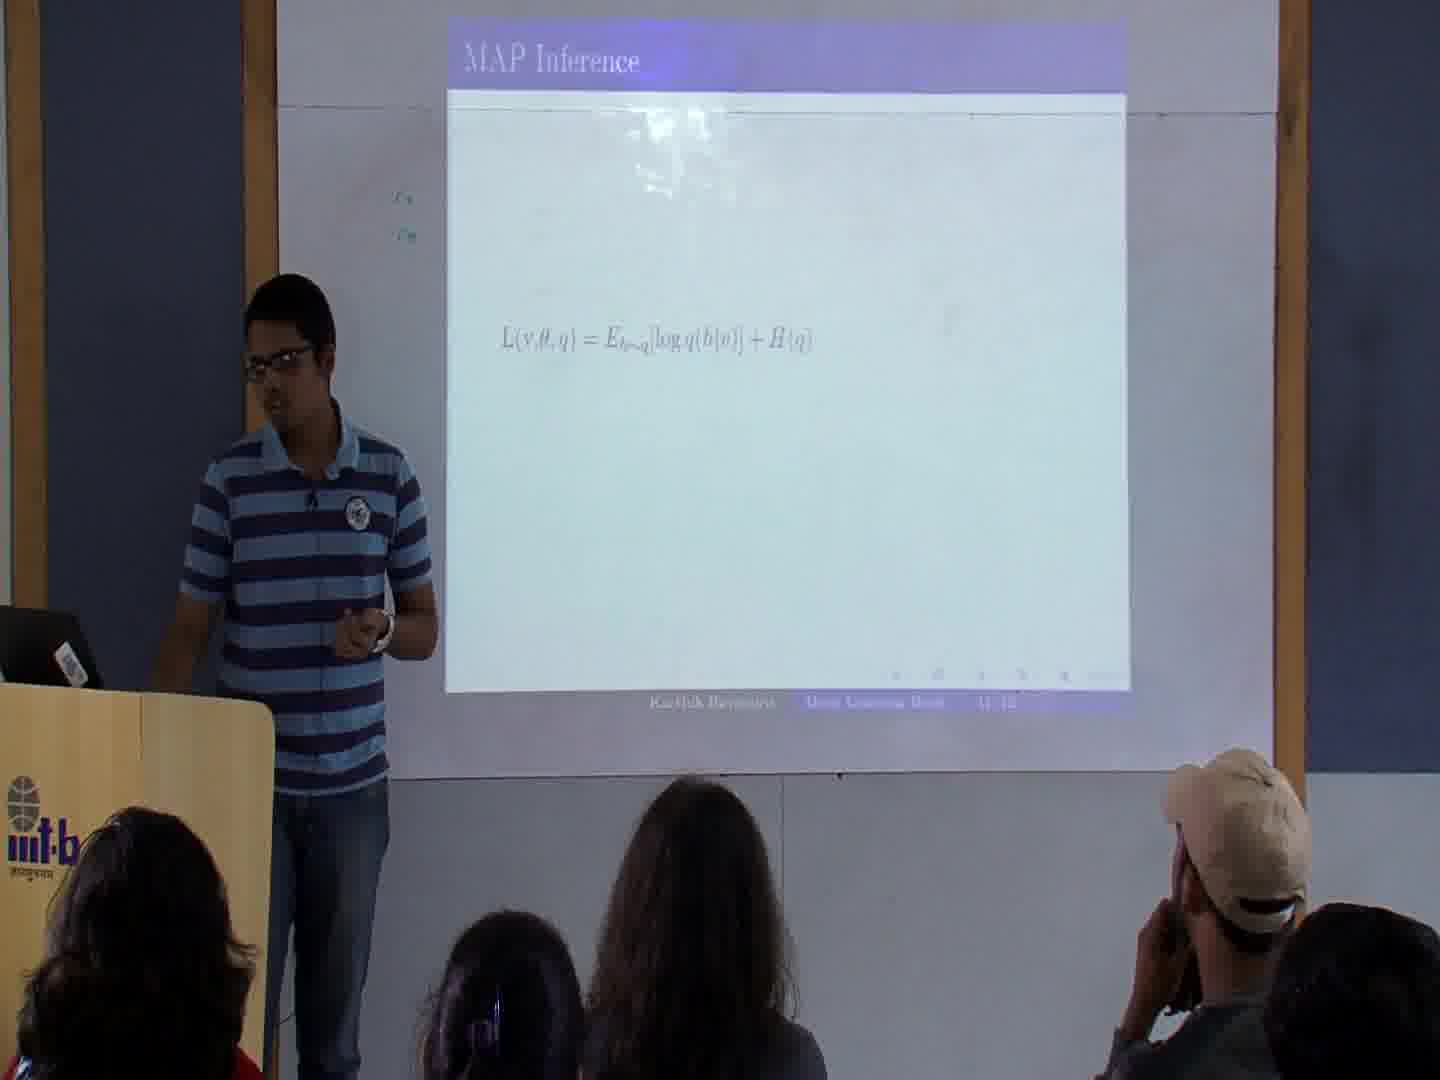slide: (444, 16, 1128, 715)
